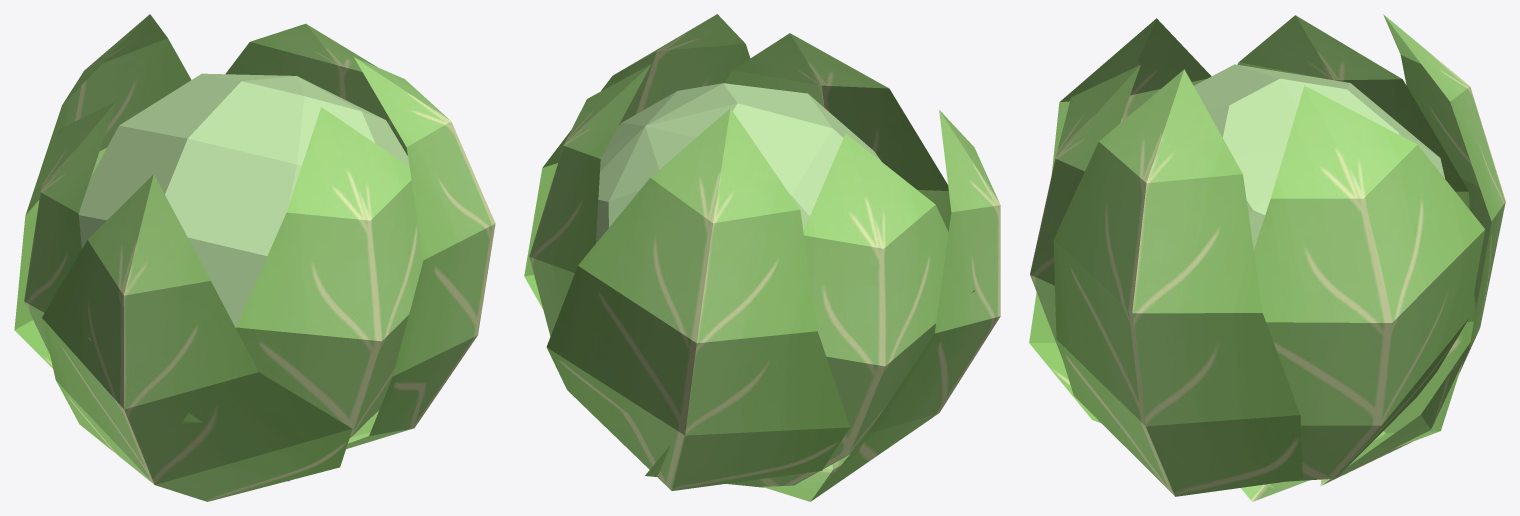
The model's file is cabbage.fbx.
The picture shows the model from 3 angles, left to right: view 1: azimuth 30°, elevation 25°; view 2: azimuth 150°, elevation 25°; view 3: azimuth 270°, elevation 25°; orthographic projection. The views are drawn at different scales.
Parts seen in each view (by area): view 1: pSphere5, pSphere3, pSphere1, pSphere7, pSphere6, pSphere4, pSphere2; view 2: pSphere6, pSphere4, pSphere5, pSphere1, pSphere3, pSphere2, pSphere7; view 3: pSphere7, pSphere2, pSphere6, pSphere1, pSphere4, pSphere3, pSphere5.
Boxes of the visible parts, x1,y1,x2,y2 form: pSphere5: (42,174,352,501); pSphere3: (182,107,423,481); pSphere1: (78,73,409,327); pSphere7: (346,57,495,449); pSphere6: (14,14,191,368); pSphere4: (24,101,116,353); pSphere2: (225,23,407,437); pSphere6: (546,108,850,490); pSphere4: (645,133,974,487); pSphere5: (762,110,1000,501); pSphere1: (596,83,881,242); pSphere3: (725,33,951,486); pSphere2: (529,64,651,336); pSphere7: (524,14,750,309); pSphere7: (1053,69,1302,496); pSphere2: (1254,85,1485,481); pSphere6: (1320,14,1505,485); pSphere1: (1194,64,1444,249); pSphere4: (1237,15,1475,501); pSphere3: (1030,65,1140,357); pSphere5: (1029,18,1274,488).
Bounding box in the file's own units: 1.05 × 1.05 × 1.01.
1 material, 1 textured.
